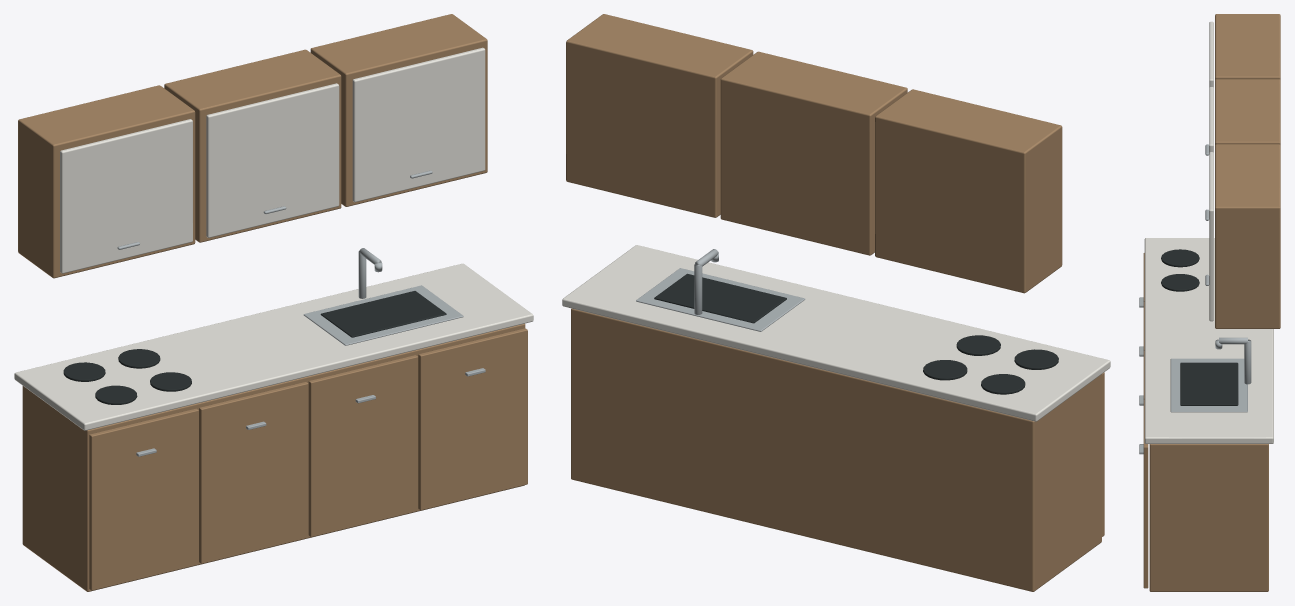
The model's file is kitchen.glb.
3 views of the same model, side by side, from view 1: azimuth 30°, elevation 25°; view 2: azimuth 150°, elevation 25°; view 3: azimuth 270°, elevation 25° (orthographic). The views are drawn at different scales.
Visible parts, largest first — view 1: kitchen; view 2: kitchen; view 3: kitchen.
Part boxes in pixels (x1=…): kitchen: x1=14, y1=14, x2=533, y2=591; kitchen: x1=562, y1=14, x2=1110, y2=591; kitchen: x1=1139, y1=14, x2=1280, y2=591.
Bounding box in the file's own units: 2.46 × 2.2 × 0.7325.
